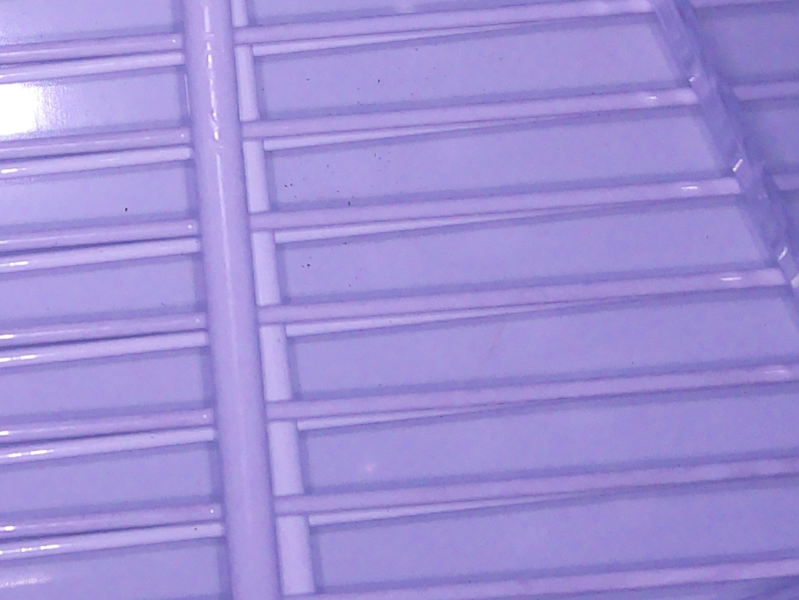plate: (636, 1, 799, 313)
